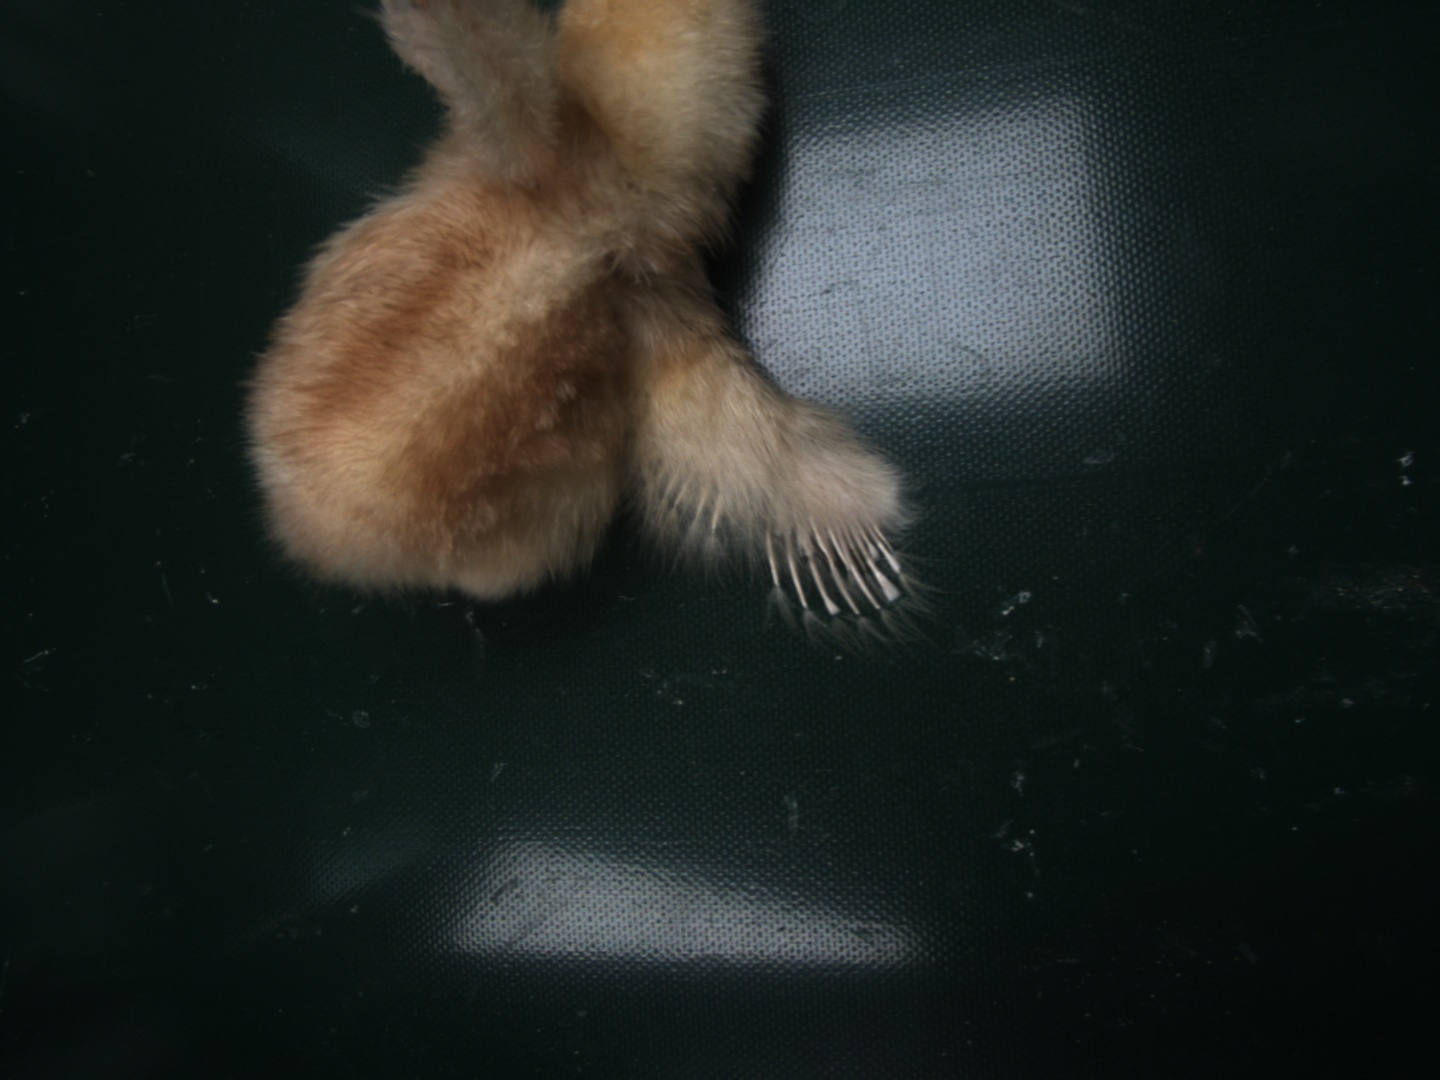female: (765, 508, 904, 615)
